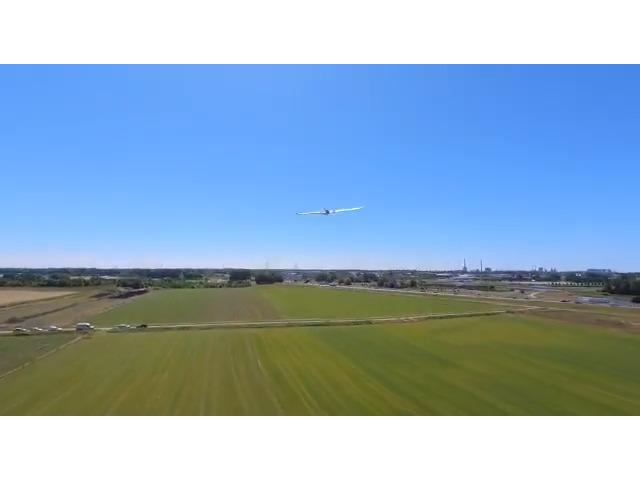Anti-Drone: (294, 190, 370, 234)
